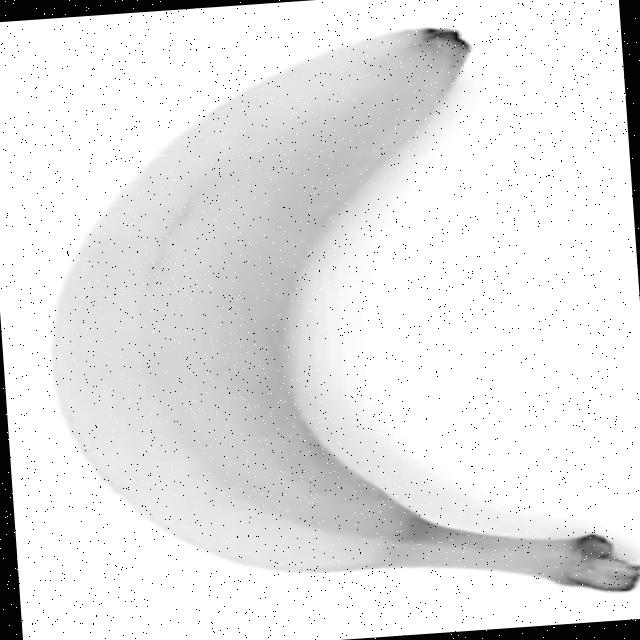banana: (26, 16, 640, 632)
